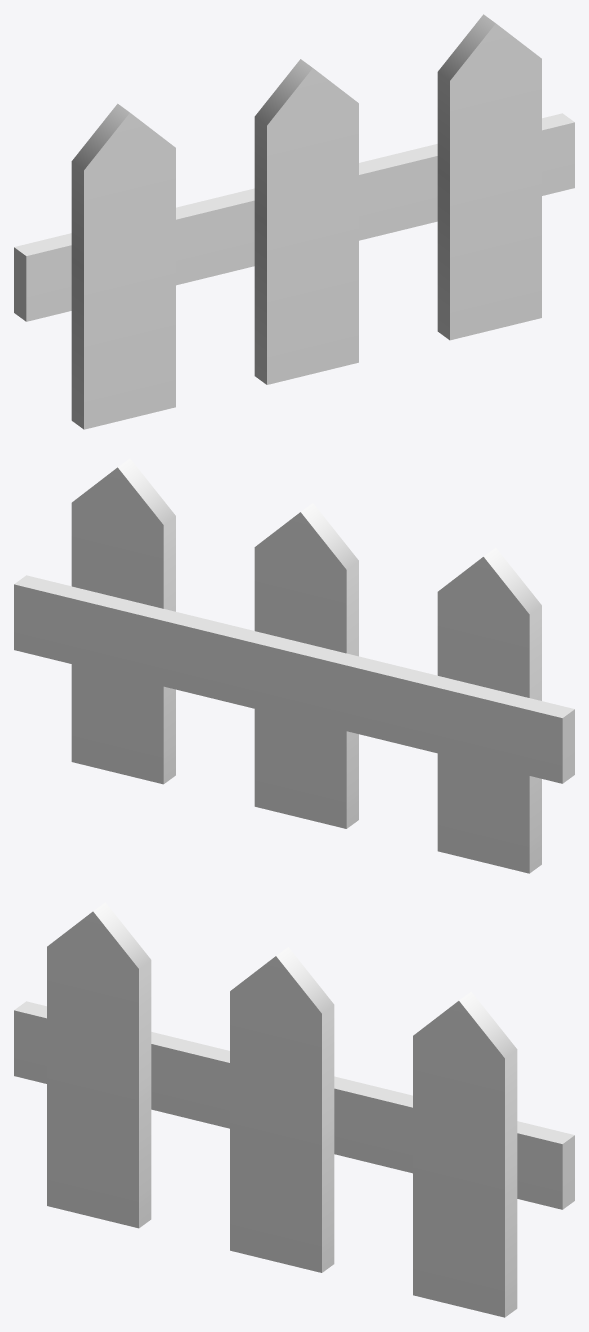
File: Hang_rao.fbx
3 views of the same model, one above another, from view 1: azimuth 30°, elevation 25°; view 2: azimuth 150°, elevation 25°; view 3: azimuth 330°, elevation 25° (orthographic).
Parts seen in each view (by area): view 1: Hang_rao; view 2: Hang_rao; view 3: Hang_rao.
Part boxes in pixels (box(x1,y1,x2,y2)): Hang_rao: box(14, 14, 574, 429); Hang_rao: box(14, 458, 574, 873); Hang_rao: box(14, 902, 574, 1317).
Bounding box in the file's own units: 234 × 125 × 18.22.
